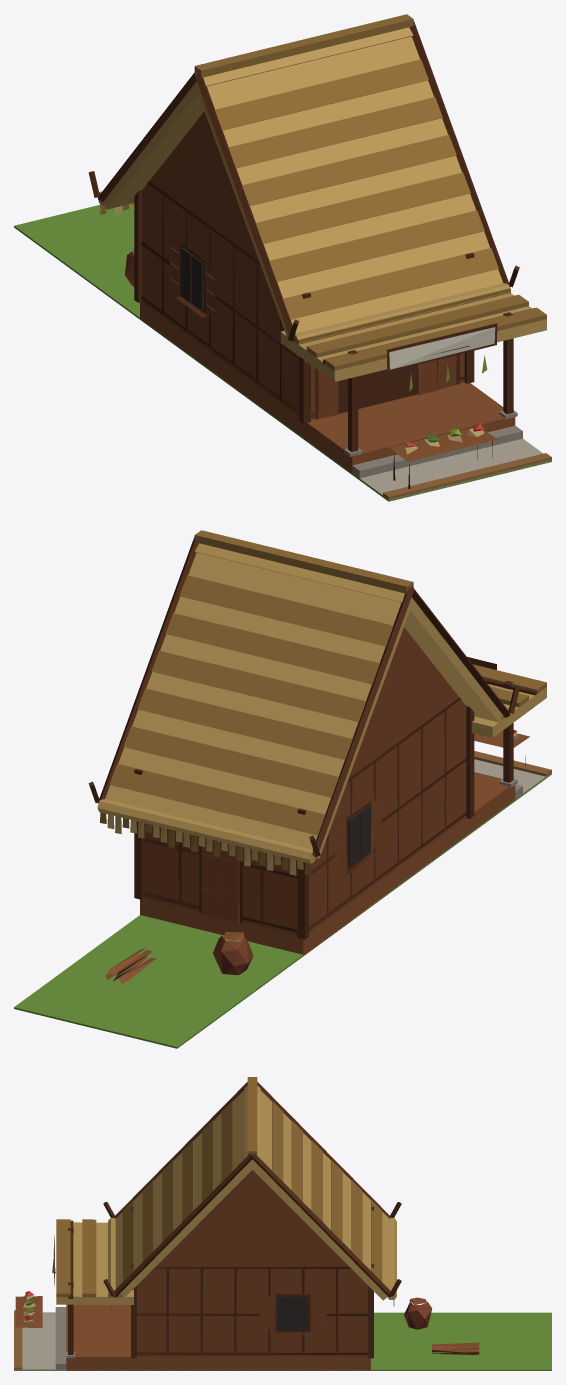
File: bay1_one.glb
3 renders of one model, top to bottom at view 1: azimuth 30°, elevation 25°; view 2: azimuth 150°, elevation 25°; view 3: azimuth 270°, elevation 25°, orthographic. The views are drawn at different scales.
Visible parts, largest first — view 1: body, windows; view 2: body, windows; view 3: body, windows.
Part boxes in pixels (x1,y1,x2,y2): body: [14, 14, 551, 501]; windows: [180, 247, 203, 309]; body: [14, 530, 551, 1048]; windows: [348, 805, 370, 867]; body: [14, 1077, 551, 1370]; windows: [278, 1296, 308, 1330].
Size of the model in its own units: 5.54 by 7.44 by 15.9.
